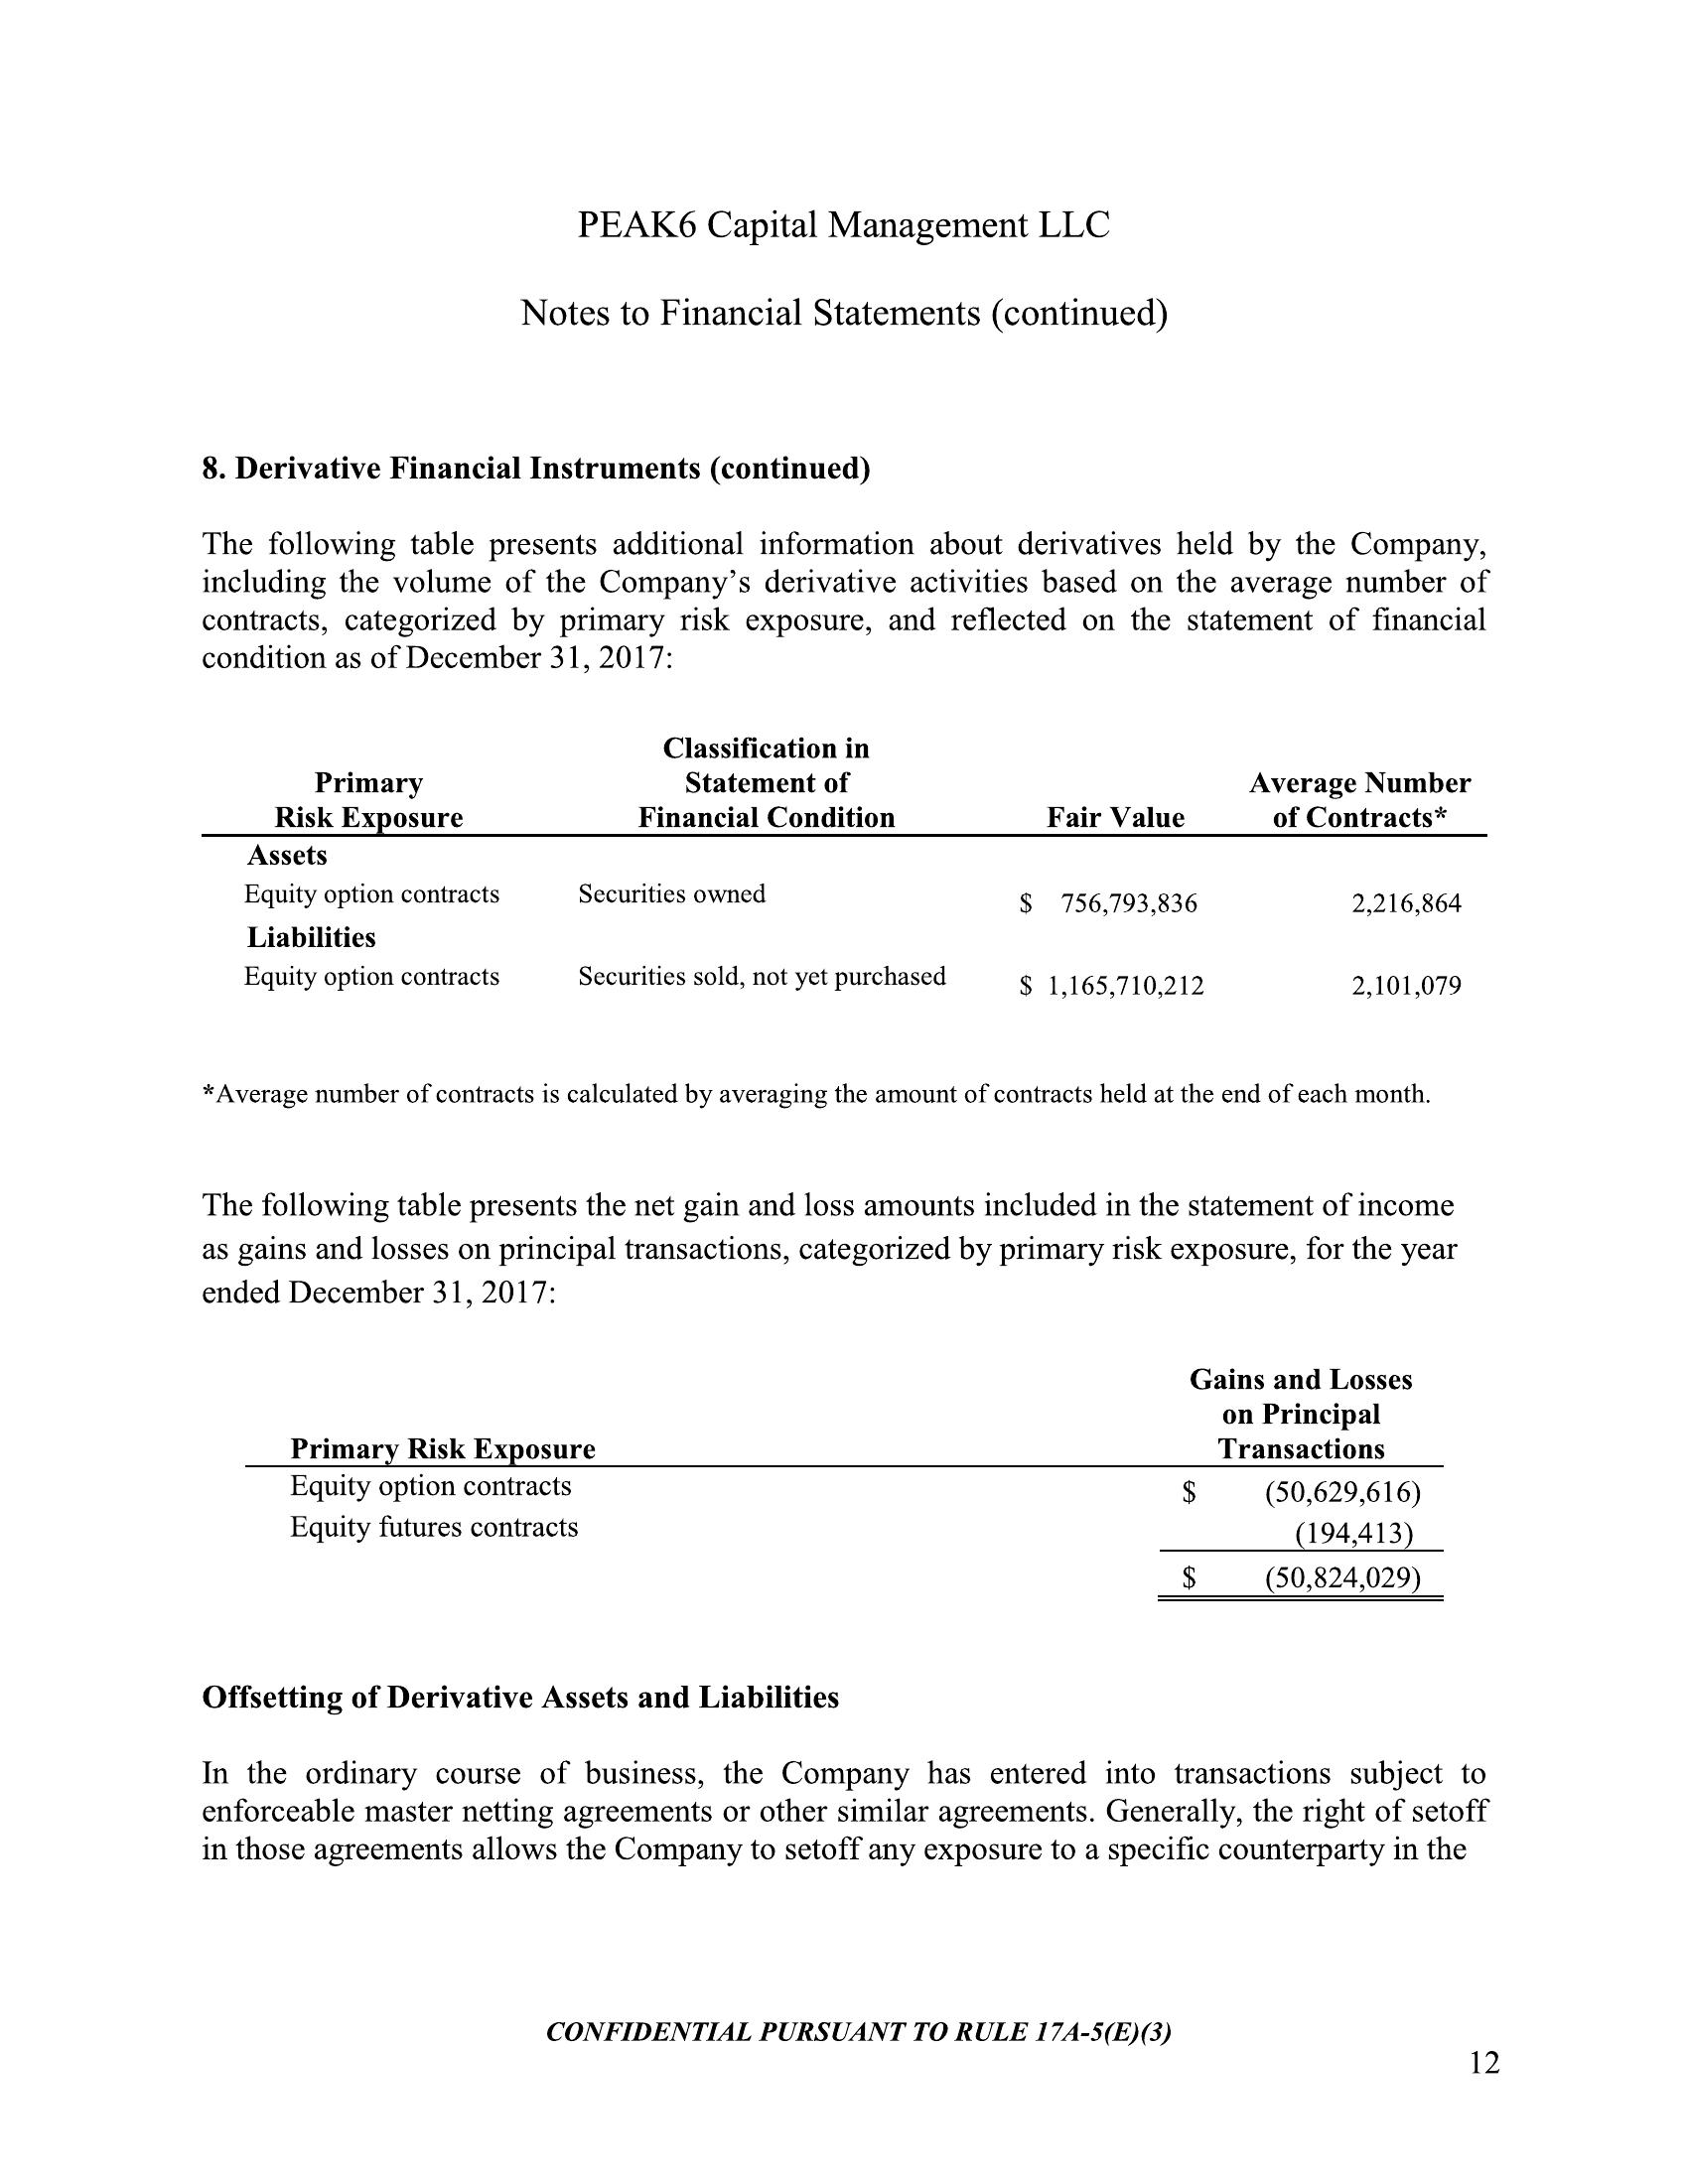table: (199, 730, 1484, 1009), (238, 1358, 1450, 1617)
